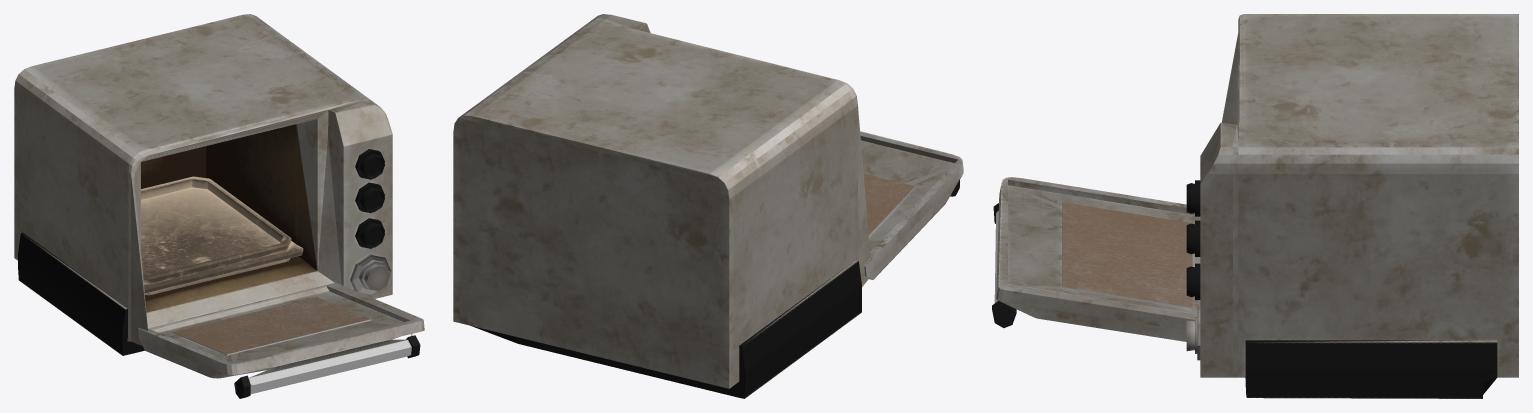
The model's file is Oven_opened_7.fbx.
3 renders of one model, left to right at view 1: azimuth 30°, elevation 25°; view 2: azimuth 150°, elevation 25°; view 3: azimuth 270°, elevation 25°, orthographic. The views are drawn at different scales.
Parts seen in each view (by area): view 1: Oven_body, Oven_door, Oven_inner, Botton_2, Botton_4, Botton_1, Botton_3; view 2: Oven_body, Oven_door; view 3: Oven_body, Oven_door, Botton_2, Botton_1, Botton_3, Botton_4.
Part boxes in pixels (left/top/right/bottom): Oven_body: left=14, top=14, right=392, bottom=355; Oven_door: left=138, top=283, right=424, bottom=398; Oven_inner: left=141, top=176, right=303, bottom=295; Botton_2: left=350, top=254, right=391, bottom=296; Botton_4: left=355, top=218, right=384, bottom=248; Botton_1: left=355, top=149, right=384, bottom=179; Botton_3: left=355, top=182, right=384, bottom=212; Oven_body: left=453, top=14, right=870, bottom=398; Oven_door: left=860, top=131, right=963, bottom=279; Oven_body: left=1200, top=14, right=1518, bottom=398; Oven_door: left=992, top=177, right=1200, bottom=341; Botton_2: left=1186, top=307, right=1200, bottom=360; Botton_1: left=1186, top=180, right=1200, bottom=216; Botton_3: left=1186, top=220, right=1200, bottom=256; Botton_4: left=1186, top=263, right=1200, bottom=299.
Size of the model in its own units: 115 by 169 by 86.23.
Materials: 2 (2 with a texture image).
